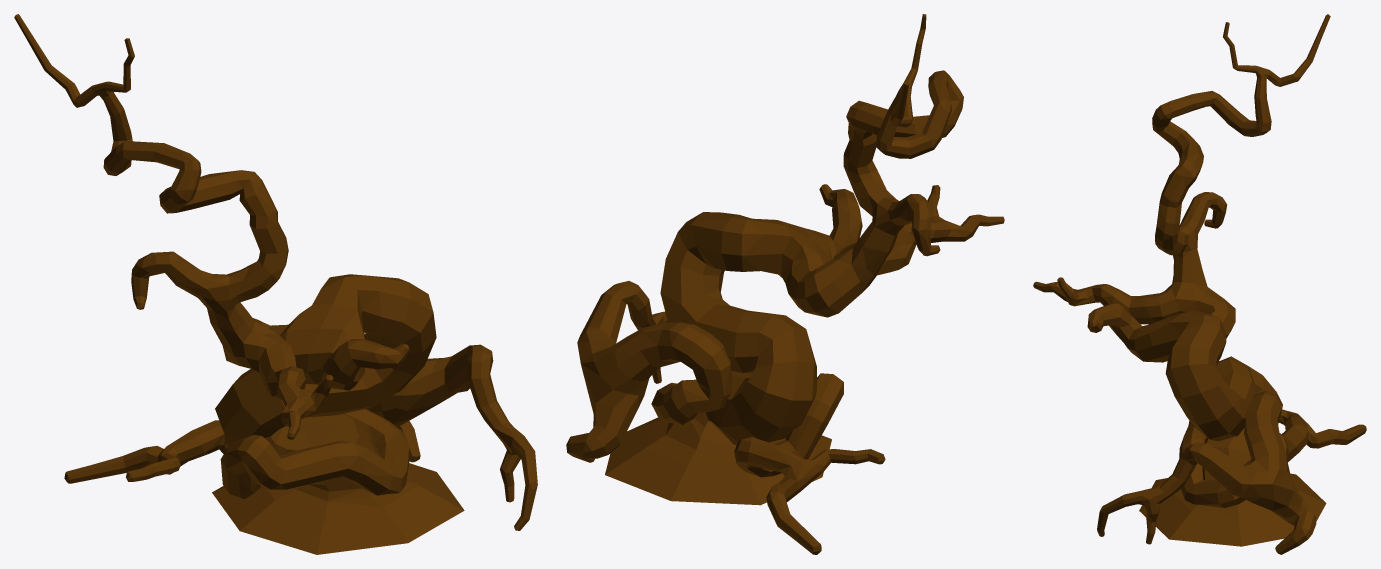
The model's file is Tree_Bare_2.glb.
3 renders of one model, left to right at view 1: azimuth 30°, elevation 25°; view 2: azimuth 150°, elevation 25°; view 3: azimuth 270°, elevation 25°, orthographic. The views are drawn at different scales.
Visible parts, largest first — view 1: Tree_Bare_2; view 2: Tree_Bare_2; view 3: Tree_Bare_2.
Part boxes in pixels (x1=…): Tree_Bare_2: x1=14, y1=14, x2=537, y2=554; Tree_Bare_2: x1=566, y1=14, x2=1004, y2=554; Tree_Bare_2: x1=1033, y1=14, x2=1366, y2=554.
Bounding box in the file's own units: 6.15 × 7.68 × 5.66.
1 material, 1 textured.
